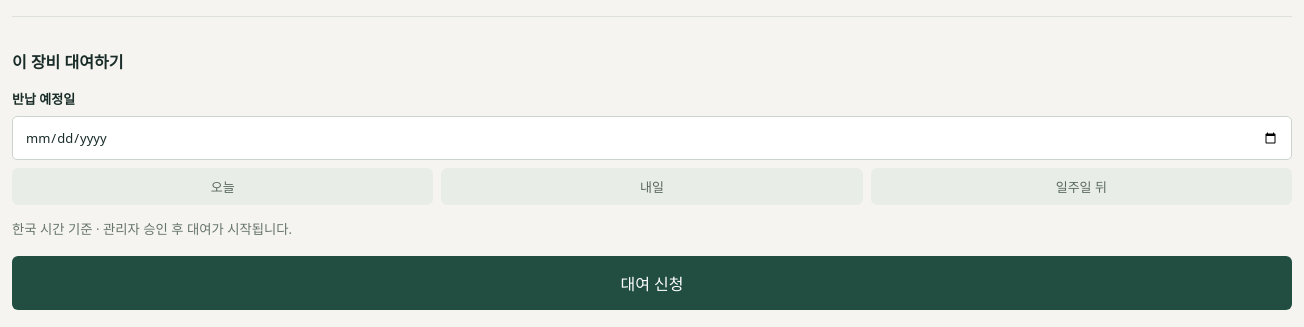
Test case: shortcuts only fill the return date and never submit a request
Click the button "오늘" at [223, 186], box [12, 168, 433, 205]
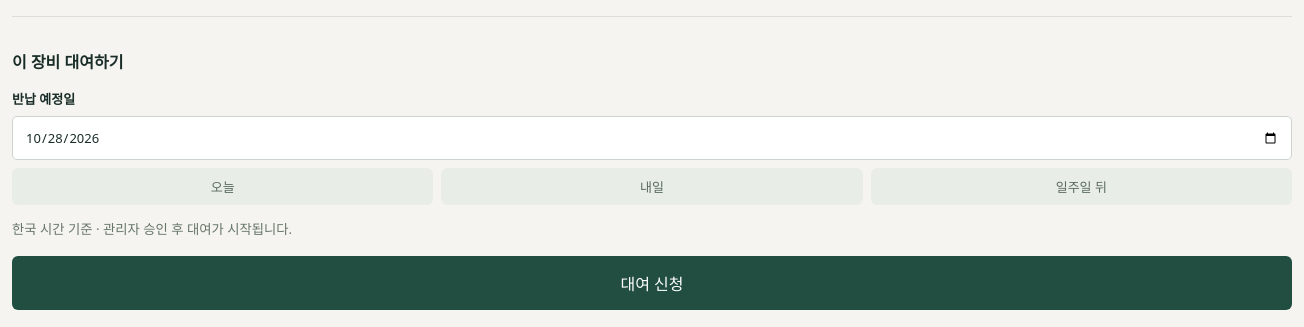
Check: the date field labelled "반납 예정일" holds "2026-10-28", box [12, 116, 1292, 160]
Click the button "내일" at [652, 186], box [441, 168, 863, 205]
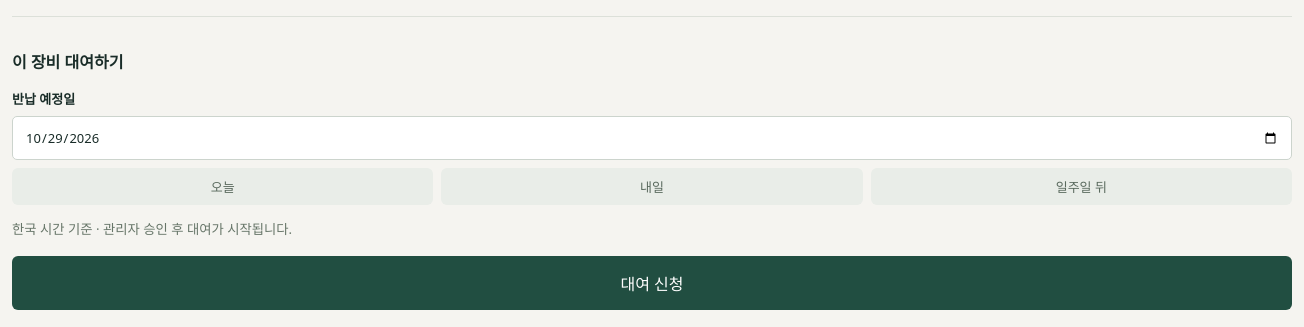
Check: the date field labelled "반납 예정일" holds "2026-10-29", box [12, 116, 1292, 160]
Click the button "일주일 뒤" at [1081, 186], box [871, 168, 1292, 205]
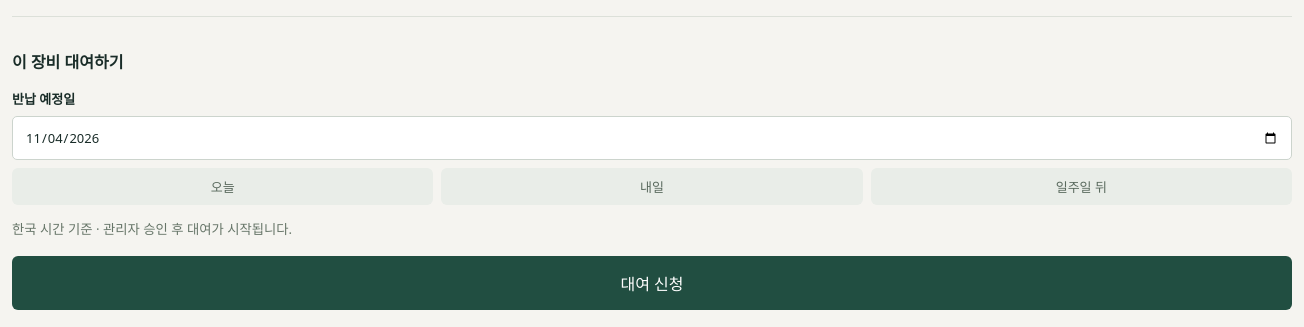
Check: the date field labelled "반납 예정일" holds "2026-11-04", box [12, 116, 1292, 160]
